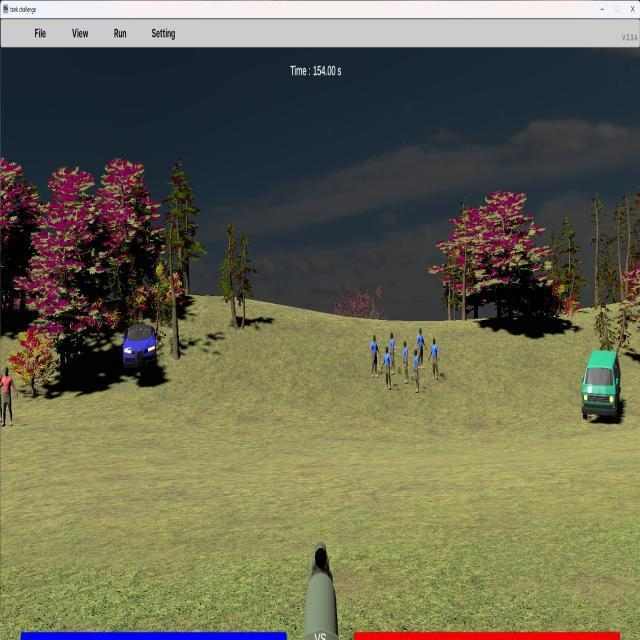Human: (0, 366, 18, 427)
car: (581, 349, 621, 421), (122, 323, 158, 368)
